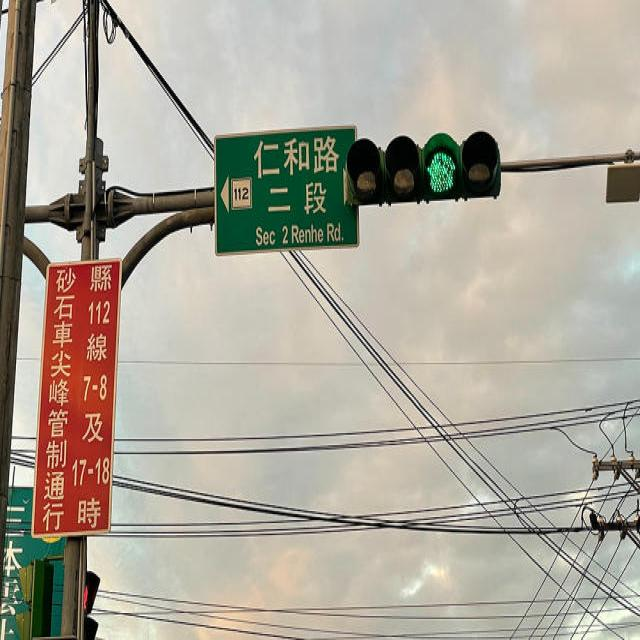green light: (347, 130, 501, 202)
